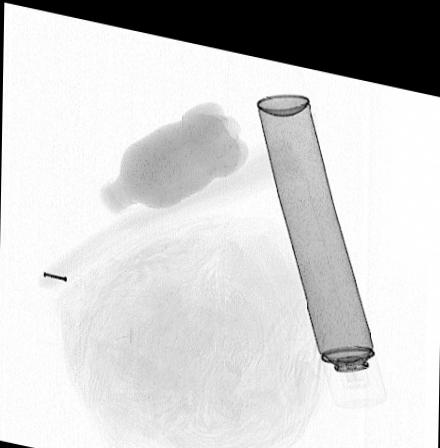Sprayer: (256, 80, 387, 395)
